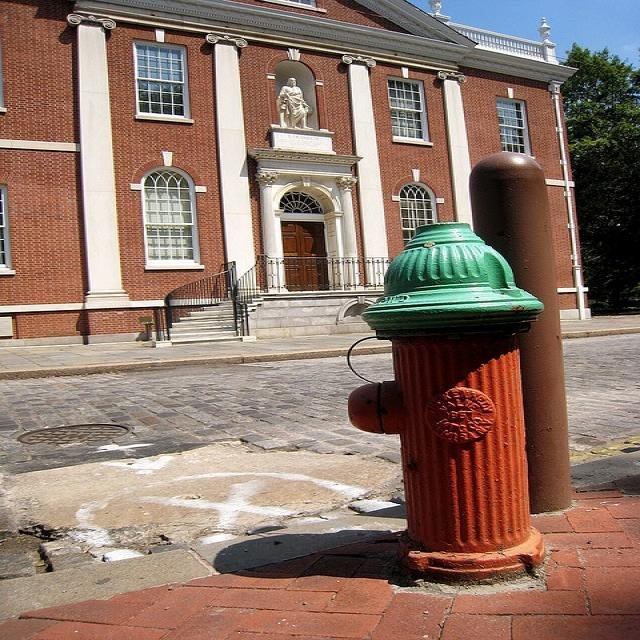fire_hydrant: (343, 210, 564, 583)
